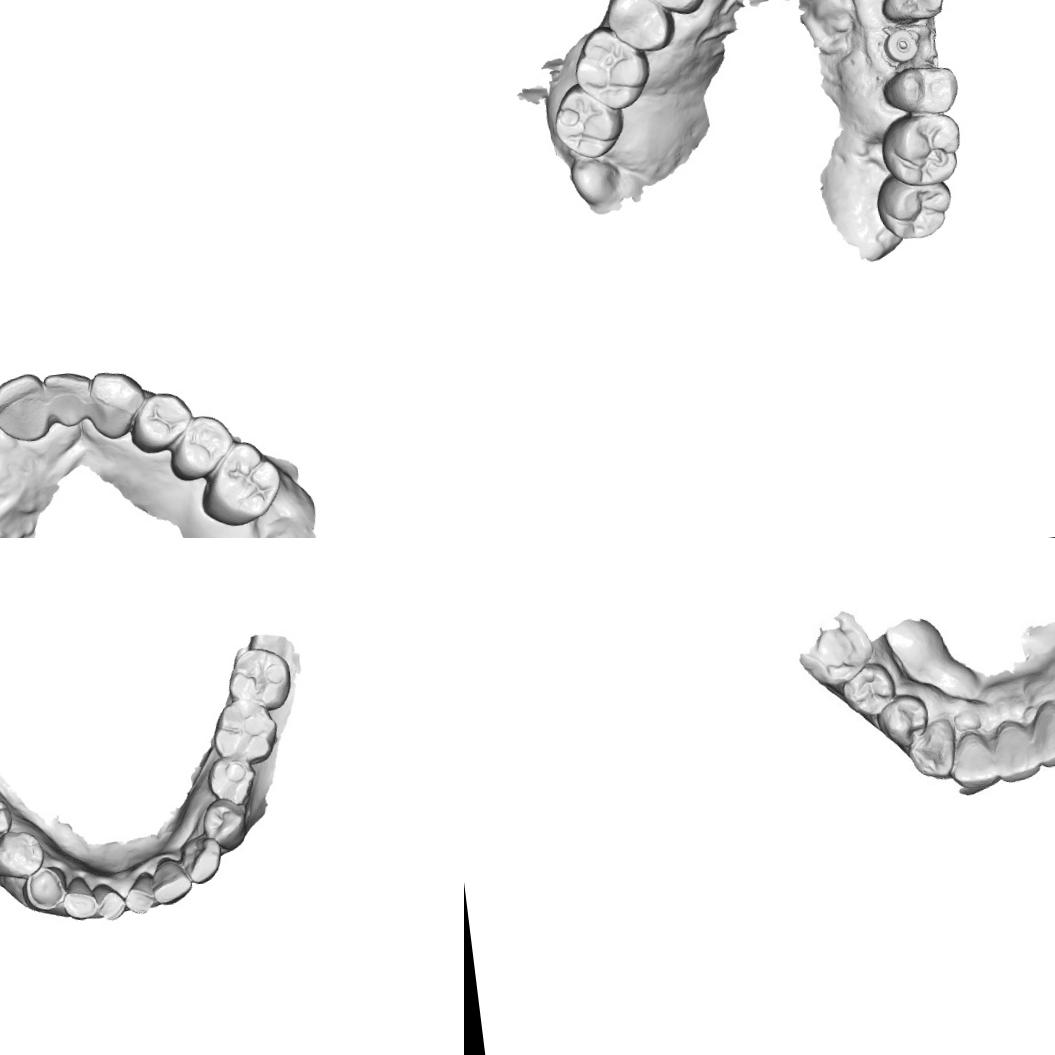canine: (83, 364, 149, 444), (903, 722, 960, 784), (20, 862, 75, 920), (173, 832, 228, 888), (874, 0, 947, 26)
implant: (880, 21, 926, 68)
incisor: (0, 370, 53, 448), (40, 366, 100, 433), (990, 720, 1044, 786), (947, 733, 1000, 791), (148, 854, 193, 910), (119, 866, 161, 920), (59, 874, 104, 924), (90, 878, 126, 925), (1030, 704, 1055, 770)
molar: (192, 434, 288, 532), (566, 19, 654, 116), (876, 107, 966, 190), (870, 167, 960, 247), (548, 78, 626, 166), (796, 611, 876, 692), (220, 641, 295, 717), (206, 695, 282, 770)
premolar: (163, 409, 238, 485), (878, 59, 965, 121), (124, 386, 198, 457), (600, 0, 676, 59), (196, 792, 256, 854), (203, 750, 262, 810), (839, 659, 898, 718), (876, 690, 929, 747), (0, 825, 47, 884), (632, 0, 709, 21), (0, 790, 15, 854)
